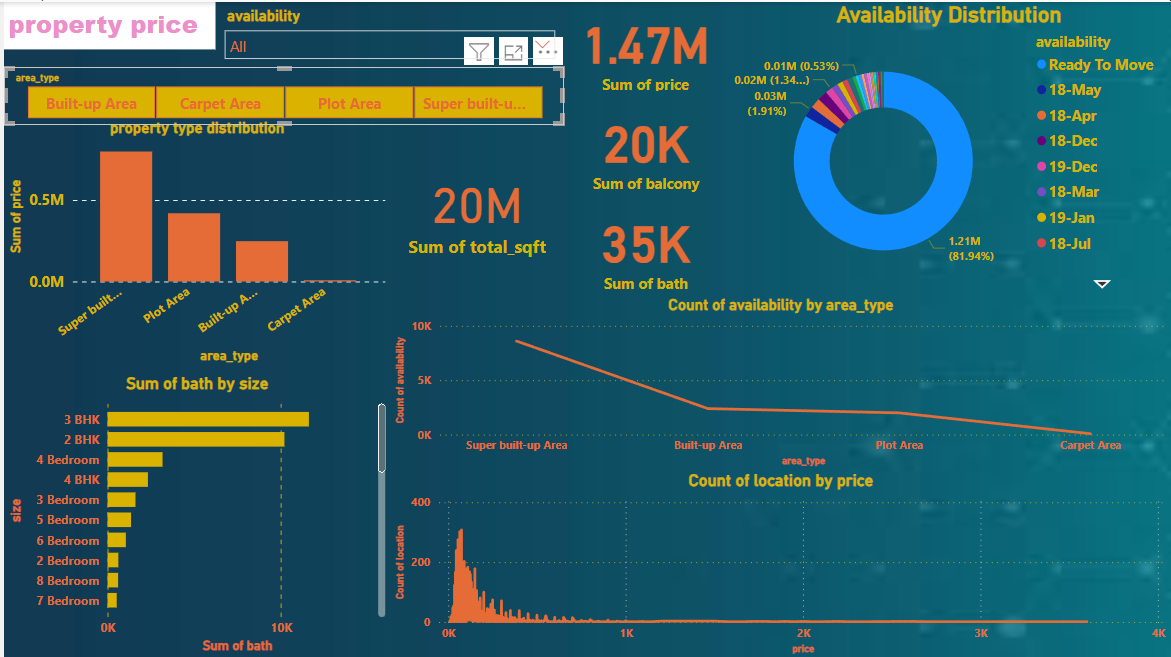

Layout of this report page (visuals, bound fields, positions):
{"tool":"powerbi","page":{"name":"Page 1","canvas":[1280,720],"ordinal":0},"visuals":[{"type":"columnChart","title":"property type distribution","fields":{"Category":["bengaluru_house_prices.area_type"],"Y":["Sum(bengaluru_house_prices.price)"]},"box":[0,127.5,423.7,272.8],"z":0},{"type":"textbox","box":[0,0,231.7,52.1],"z":1000},{"type":"donutChart","title":"Availability Distribution","fields":{"Category":["bengaluru_house_prices.availability"],"Y":["Sum(bengaluru_house_prices.price)"]},"box":[792.5,0,488.1,322.2],"z":2000},{"type":"slicer","fields":{"Values":["bengaluru_house_prices.area_type"]},"box":[0,71.3,614.2,63.1],"z":3000},{"type":"slicer","fields":{"Values":["bengaluru_house_prices.availability"]},"box":[231.7,0,382.5,71.3],"z":4000},{"type":"lineChart","fields":{"Y":["CountNonNull(bengaluru_house_prices.availability)"],"Category":["bengaluru_house_prices.area_type"]},"box":[423.7,322.2,856.9,191.9],"z":5000},{"type":"clusteredBarChart","fields":{"Category":["bengaluru_house_prices.size"],"Y":["Sum(bengaluru_house_prices.bath)"]},"box":[0,407.2,423.7,312.6],"z":6000},{"type":"areaChart","fields":{"Category":["bengaluru_house_prices.price"],"Y":["CountNonNull(bengaluru_house_prices.location)"]},"box":[423.7,514.1,856.9,205.7],"z":7000},{"type":"card","fields":{"Values":["Sum(bengaluru_house_prices.total_sqft)"]},"box":[423.7,134.4,190.6,187.8],"z":8000},{"type":"card","fields":{"Values":["Sum(bengaluru_house_prices.price)"]},"box":[614.2,0,178.2,102.8],"z":9000},{"type":"card","fields":{"Values":["Sum(bengaluru_house_prices.balcony)"]},"box":[615.6,102.8,176.9,115.2],"z":10000},{"type":"card","fields":{"Values":["Sum(bengaluru_house_prices.bath)"]},"box":[615.6,218,176.9,104.2],"z":11000}]}

Visuals, with their boxes in screenshot pixels (x1, y1, x2, y2), scaled from the page's 1280x720 canvas onto the 1171x657 screenshot:
"property type distribution" columnChart: [0,116,388,365]
textbox: [0,0,212,48]
"Availability Distribution" donutChart: [725,0,1170,294]
slicer - bengaluru_house_prices.area_type: [0,65,562,123]
slicer - bengaluru_house_prices.availability: [212,0,562,65]
lineChart - CountNonNull(bengaluru_house_prices.availability) x bengaluru_house_prices.area_type: [388,294,1170,469]
clusteredBarChart - bengaluru_house_prices.size x Sum(bengaluru_house_prices.bath): [0,372,388,656]
areaChart - bengaluru_house_prices.price x CountNonNull(bengaluru_house_prices.location): [388,469,1170,656]
card - Sum(bengaluru_house_prices.total_sqft): [388,123,562,294]
card - Sum(bengaluru_house_prices.price): [562,0,725,94]
card - Sum(bengaluru_house_prices.balcony): [563,94,725,199]
card - Sum(bengaluru_house_prices.bath): [563,199,725,294]
